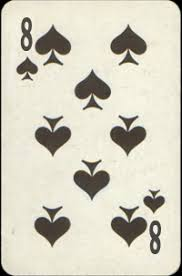eight of spades: (1, 3, 180, 276)
